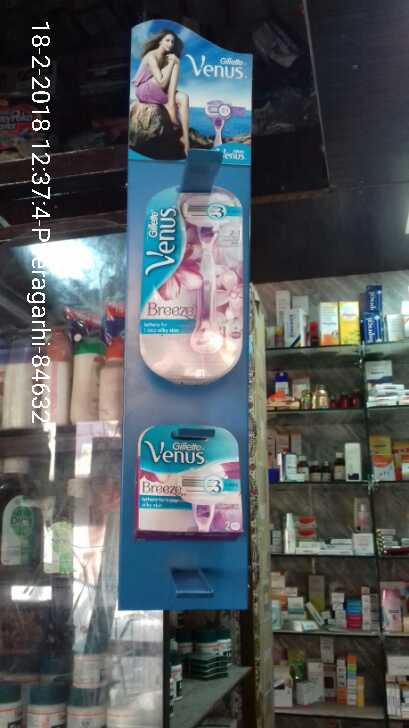venus: (136, 187, 251, 388), (131, 411, 251, 540)
